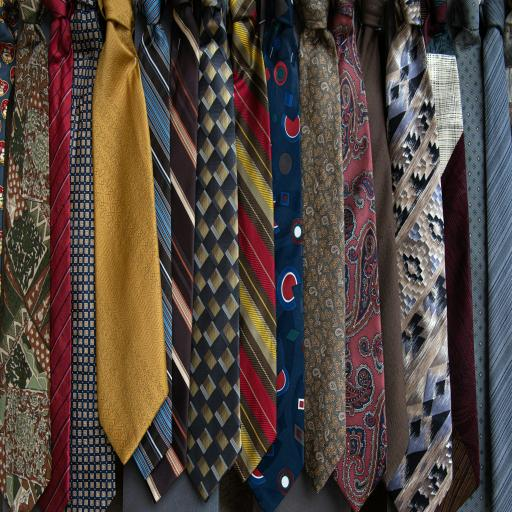tie: (91, 0, 169, 468), (384, 0, 453, 511), (247, 0, 305, 512), (331, 1, 387, 511), (186, 1, 242, 502), (0, 1, 52, 511), (68, 1, 116, 511), (297, 0, 346, 494), (228, 0, 278, 484), (132, 0, 174, 486), (38, 0, 74, 511), (480, 0, 512, 512), (170, 1, 200, 471)
